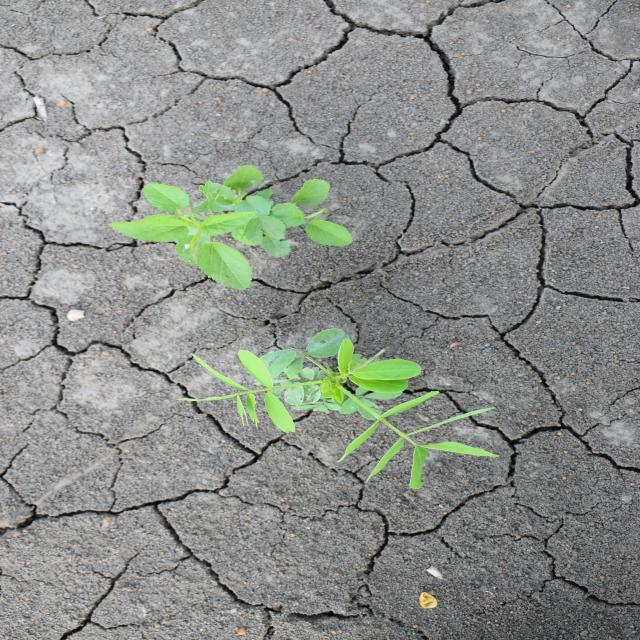PricklySida: (106, 164, 358, 292)
Sicklepod: (176, 324, 504, 492)
